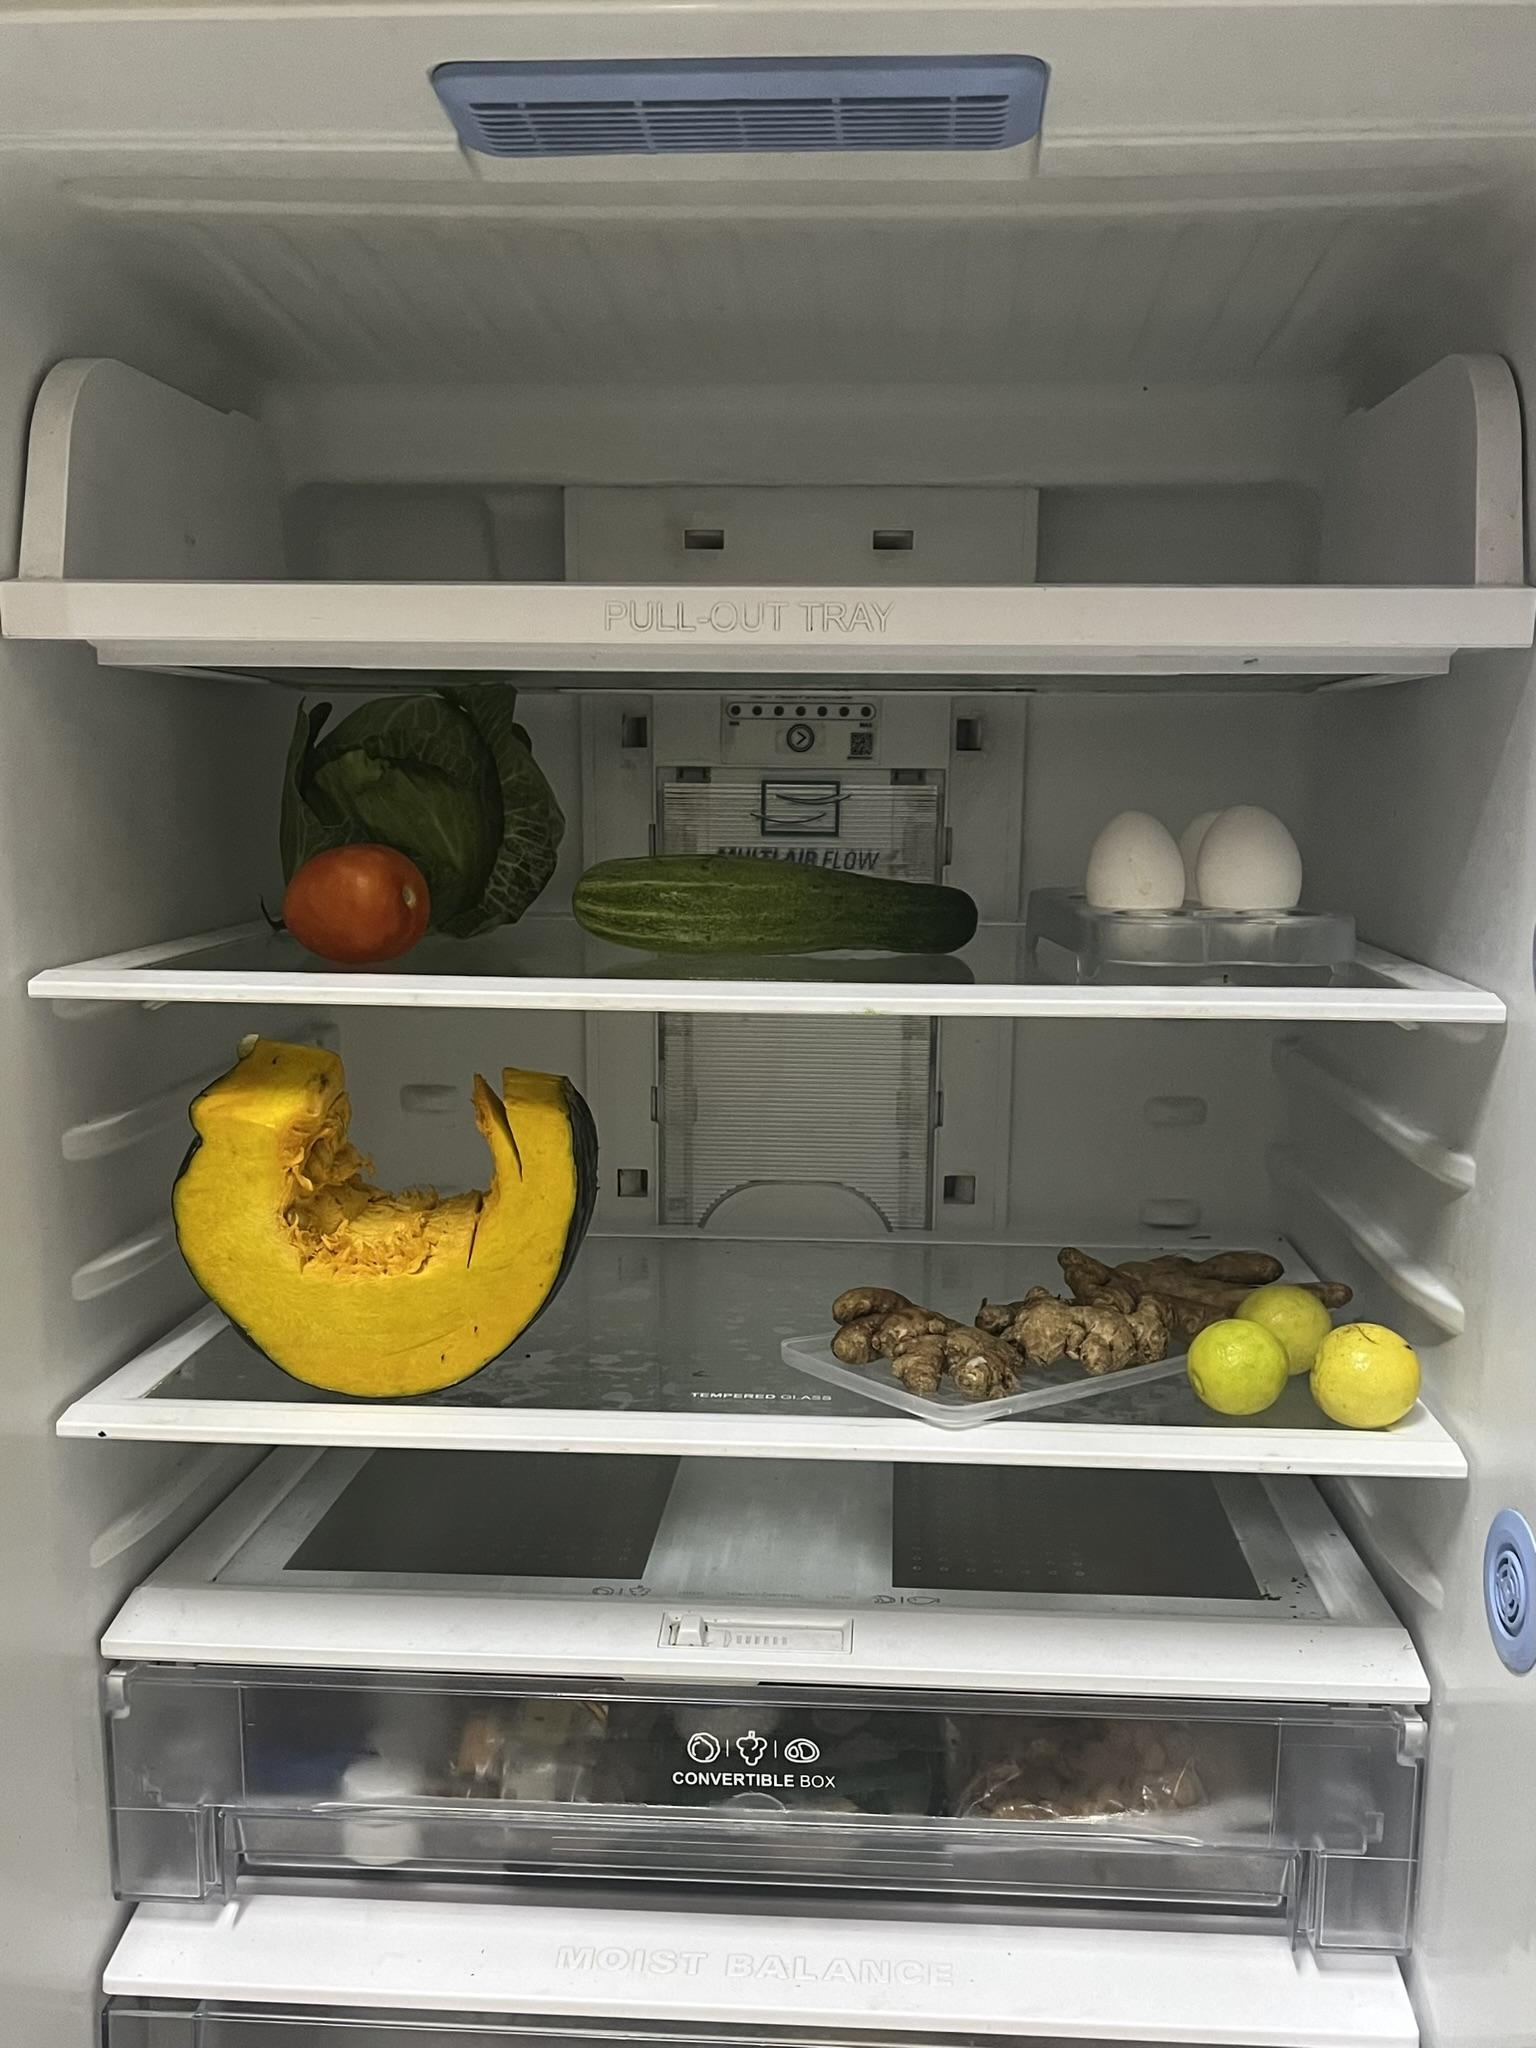cabbage: (294, 681, 570, 924)
cucumber: (579, 853, 994, 950)
egg: (1083, 787, 1317, 947)
ginger: (833, 1250, 1317, 1390)
lemon: (1179, 1277, 1426, 1421)
pumpkin: (163, 1053, 597, 1403)
tomato: (287, 840, 440, 963)
